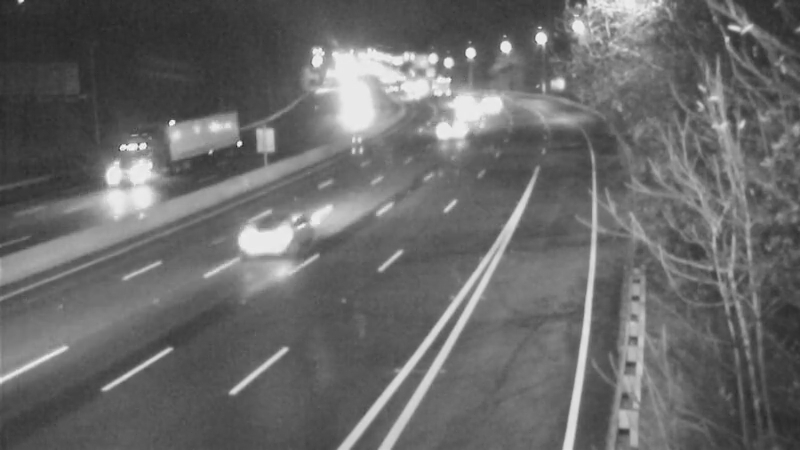vehicle: (236, 194, 316, 274), (105, 130, 185, 210), (418, 64, 468, 114), (433, 75, 483, 125), (464, 78, 514, 128), (447, 89, 497, 139), (421, 105, 471, 155)
